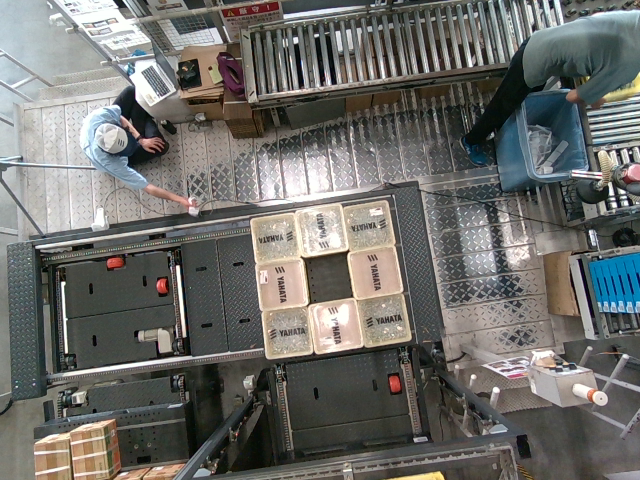box: (248, 210, 301, 263), (295, 203, 348, 256), (338, 199, 391, 252), (348, 248, 401, 301), (356, 291, 409, 344), (309, 299, 362, 352), (255, 258, 308, 311), (260, 306, 313, 359)
